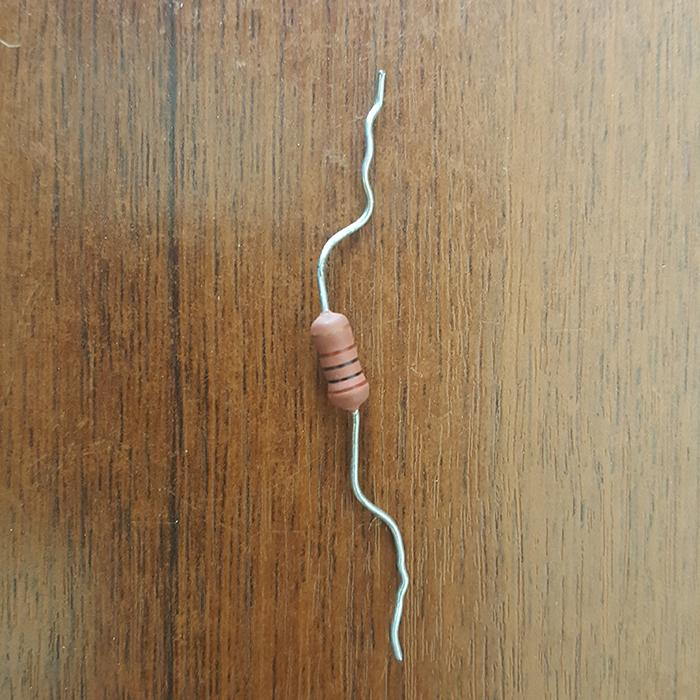resistor: (310, 309, 369, 411)
